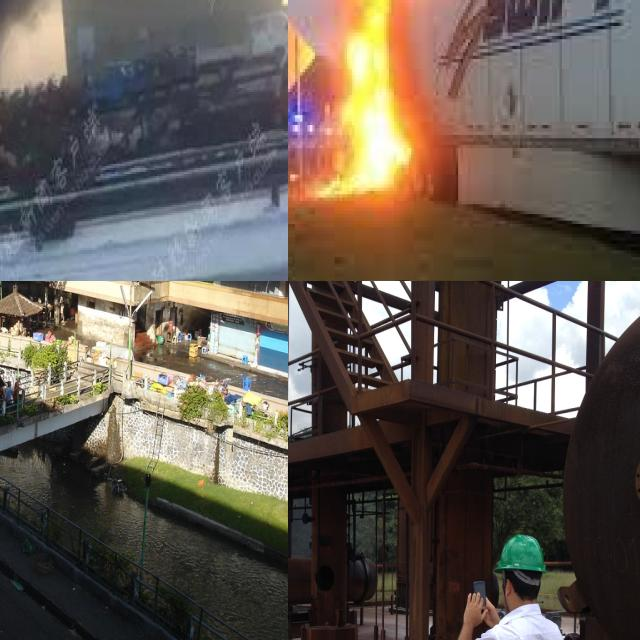fire: (300, 0, 463, 204)
smoke: (0, 0, 288, 166)
